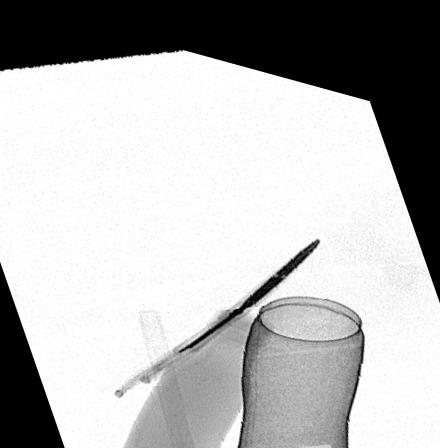Scissors: (113, 218, 319, 387)
